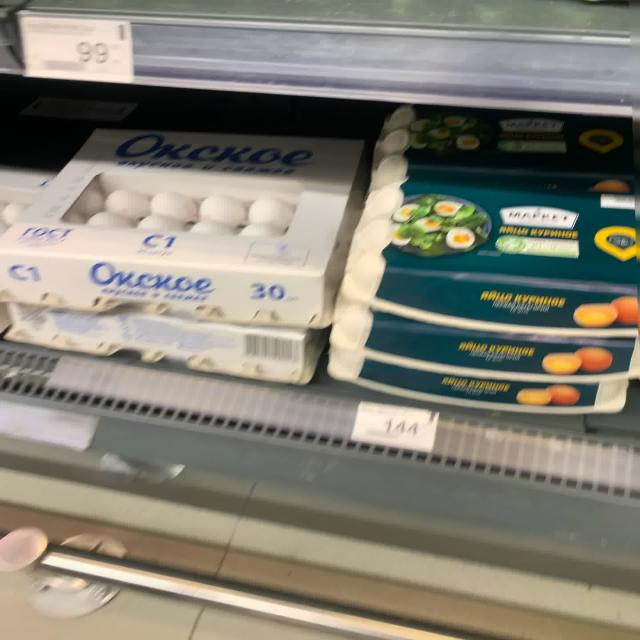egg box: (0, 126, 364, 318), (341, 175, 634, 333), (331, 294, 636, 384), (380, 100, 638, 172)
